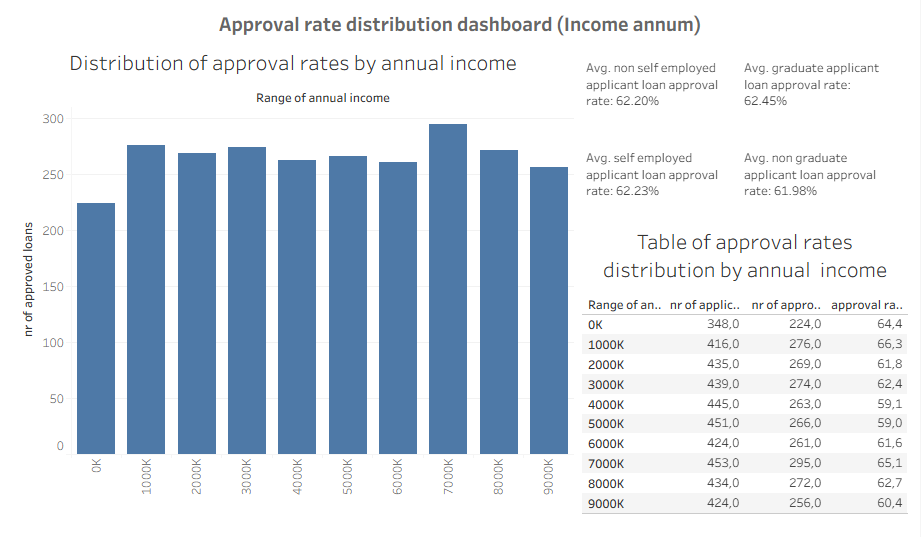

The dashboard page shown, as its layout file describes it:
{"tool":"tableau","page":{"name":"Dashboard 1","canvas":[1000,1000],"units":"permille","ordinal":0},"visuals":[{"type":"text","box":[8.7,14.3,982.6,60.7]},{"type":"worksheet","title":"Distribution of approval rates by annual income","mark":"Automatic","rows":["Calculation_1239202588094466"],"cols":["Income Annum (bin)"],"box":[8.7,75,619.5,853.6]},{"type":"worksheet","title":"Sheet 11","mark":"Text","box":[628.3,75,171.7,160.7]},{"type":"worksheet","title":"Sheet 13","mark":"Automatic","box":[800,75,167.4,160.7]},{"type":"worksheet","title":"Sheet 12","mark":"Automatic","box":[628.3,235.7,171.7,158.9]},{"type":"worksheet","title":"Sheet 14","mark":"Automatic","box":[800,235.7,167.4,158.9]},{"type":"worksheet","title":"Table 1","mark":"Automatic","rows":["Income Annum (bin)"],"box":[628.2,394.7,363,533.9]}]}

Visuals, with their boxes on the dashboard's canvas, which has no fixed pixel size, in thousandths of its width and height (x1, y1, x2, y2). These are canvas units, not pixel positions in the 921x537 screenshot, which may show the page scaled, cropped or inside an application window:
text: {"x1": 9, "y1": 14, "x2": 991, "y2": 75}
"Distribution of approval rates by annual income" worksheet: {"x1": 9, "y1": 75, "x2": 628, "y2": 929}
"Sheet 11" worksheet (Text marks): {"x1": 628, "y1": 75, "x2": 800, "y2": 236}
"Sheet 13" worksheet: {"x1": 800, "y1": 75, "x2": 967, "y2": 236}
"Sheet 12" worksheet: {"x1": 628, "y1": 236, "x2": 800, "y2": 395}
"Sheet 14" worksheet: {"x1": 800, "y1": 236, "x2": 967, "y2": 395}
"Table 1" worksheet: {"x1": 628, "y1": 395, "x2": 991, "y2": 929}
